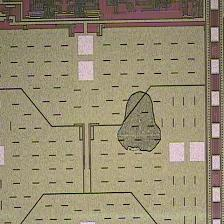PARTICLE: (117, 92, 163, 154)
